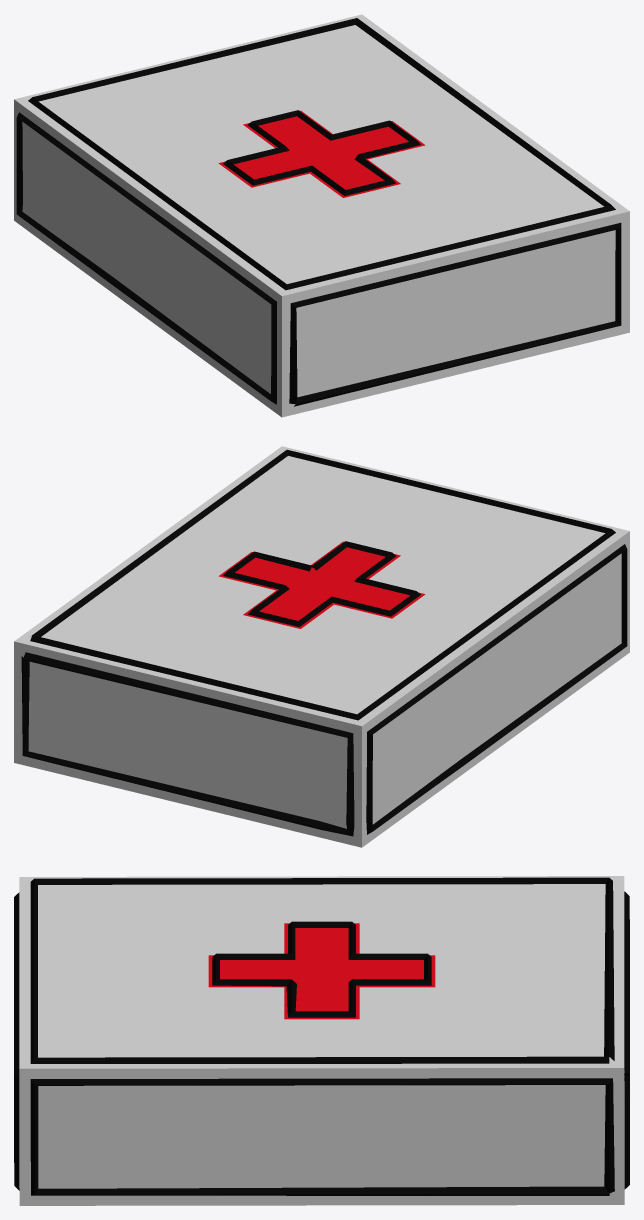
File: healthpack.fbx
3 views of the same model, one above another, from view 1: azimuth 30°, elevation 25°; view 2: azimuth 150°, elevation 25°; view 3: azimuth 270°, elevation 25° (orthographic). The views are drawn at different scales.
Parts seen in each view (by area): view 1: healthpack; view 2: healthpack; view 3: healthpack.
Part boxes in pixels (x1,y1,x2,y2): healthpack: [14, 14, 629, 417]; healthpack: [14, 446, 629, 847]; healthpack: [14, 876, 629, 1205].
Size of the model in its own units: 61.4 by 21.63 by 81.43.
